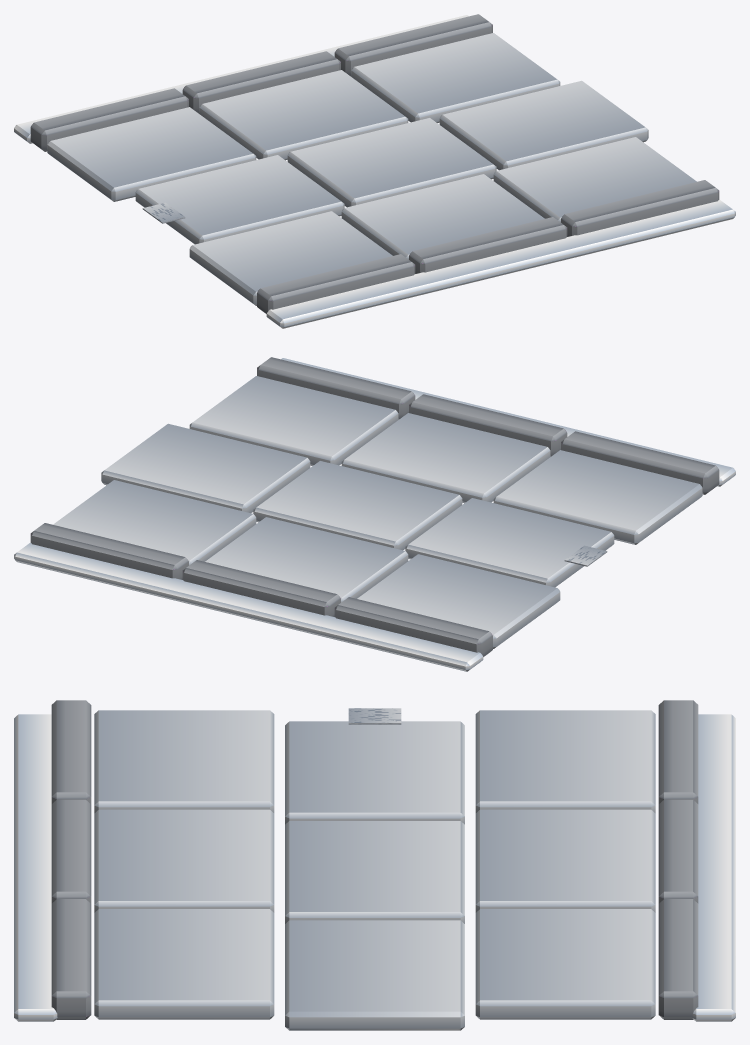
File: ck_path_straight.fbx
3 renders of one model, top to bottom at view 1: azimuth 30°, elevation 25°; view 2: azimuth 150°, elevation 25°; view 3: azimuth 270°, elevation 25°, orthographic. The views are drawn at different scales.
Parts seen in each view (by area): view 1: ck_path_straight; view 2: ck_path_straight; view 3: ck_path_straight.
Part boxes in pixels (bbox=[...]): ck_path_straight: bbox=[14, 14, 735, 328]; ck_path_straight: bbox=[14, 357, 735, 671]; ck_path_straight: bbox=[14, 700, 735, 1030].
Size of the model in its own units: 820 by 35.83 by 814.
